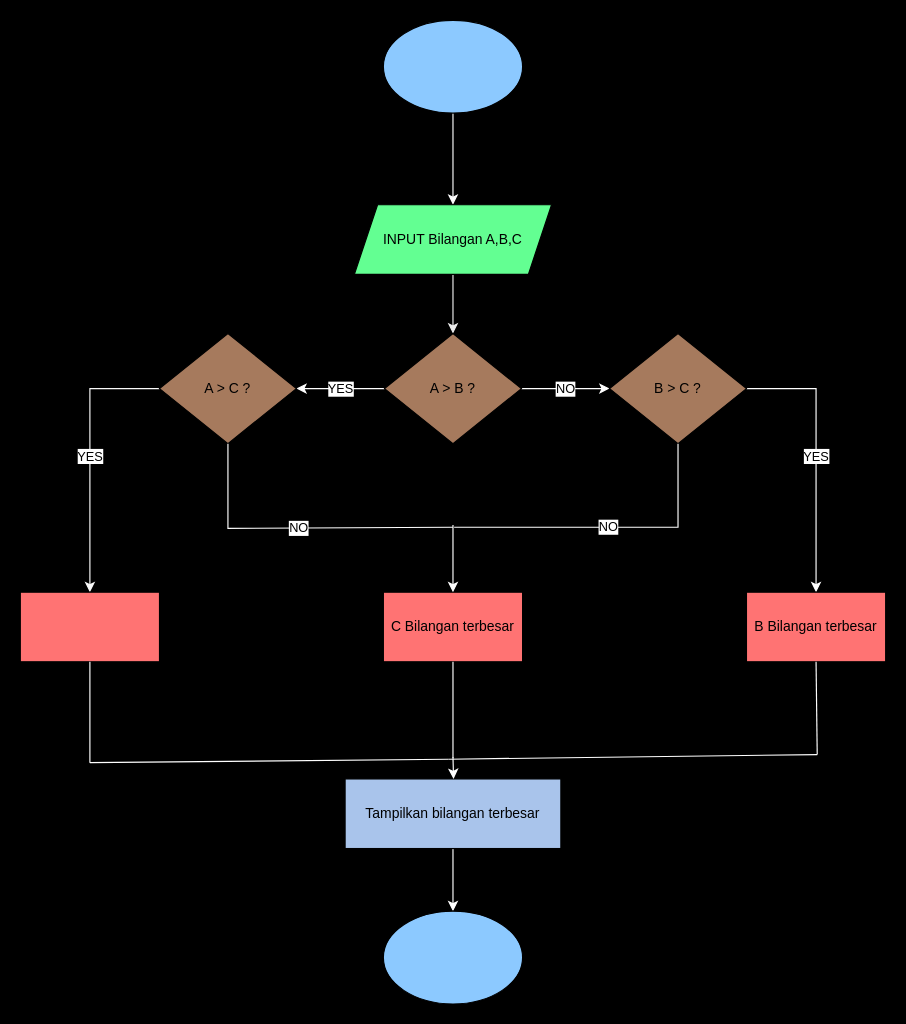
Image size: 906x1024. Some labels were removed from this diagram. The shapes that lost their labels are listed below. From the top down, each one's box as (x1, y1, x2, y2) in pixels, then its label:
(382, 19, 523, 113): MULAI
(19, 591, 160, 662): A Bilangan terbesar
(382, 910, 523, 1004): SELESAI
